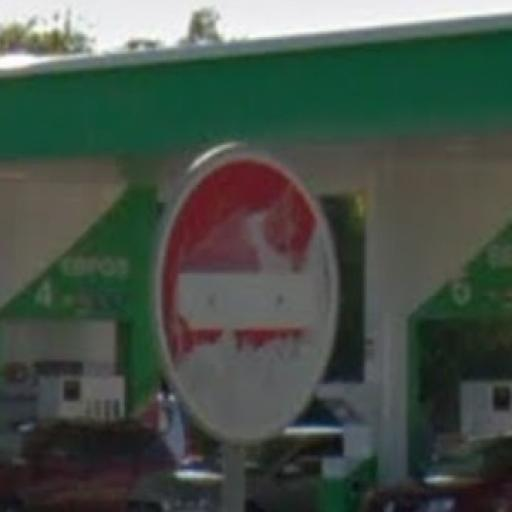traffic_sign: (156, 152, 340, 445)
